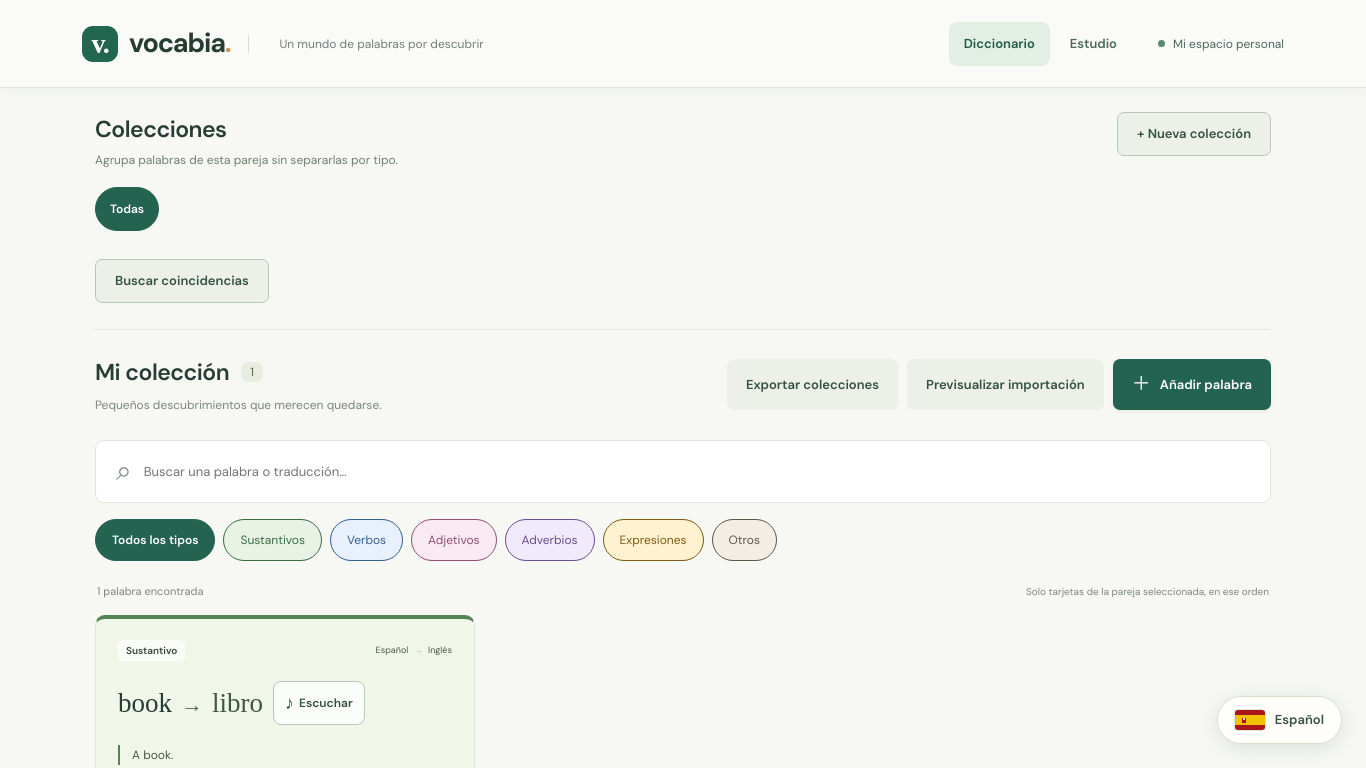
Test case: Colección de palabras › muestra un error de exportación sin ocultar la colección
(page scrolled)
Check: the heading "book" is shown, box [118,687,172,719]
Click the button "Exportar colecciones". click: {"x": 813, "y": 384}
box: [727,359,898,410]
(page scrolled)
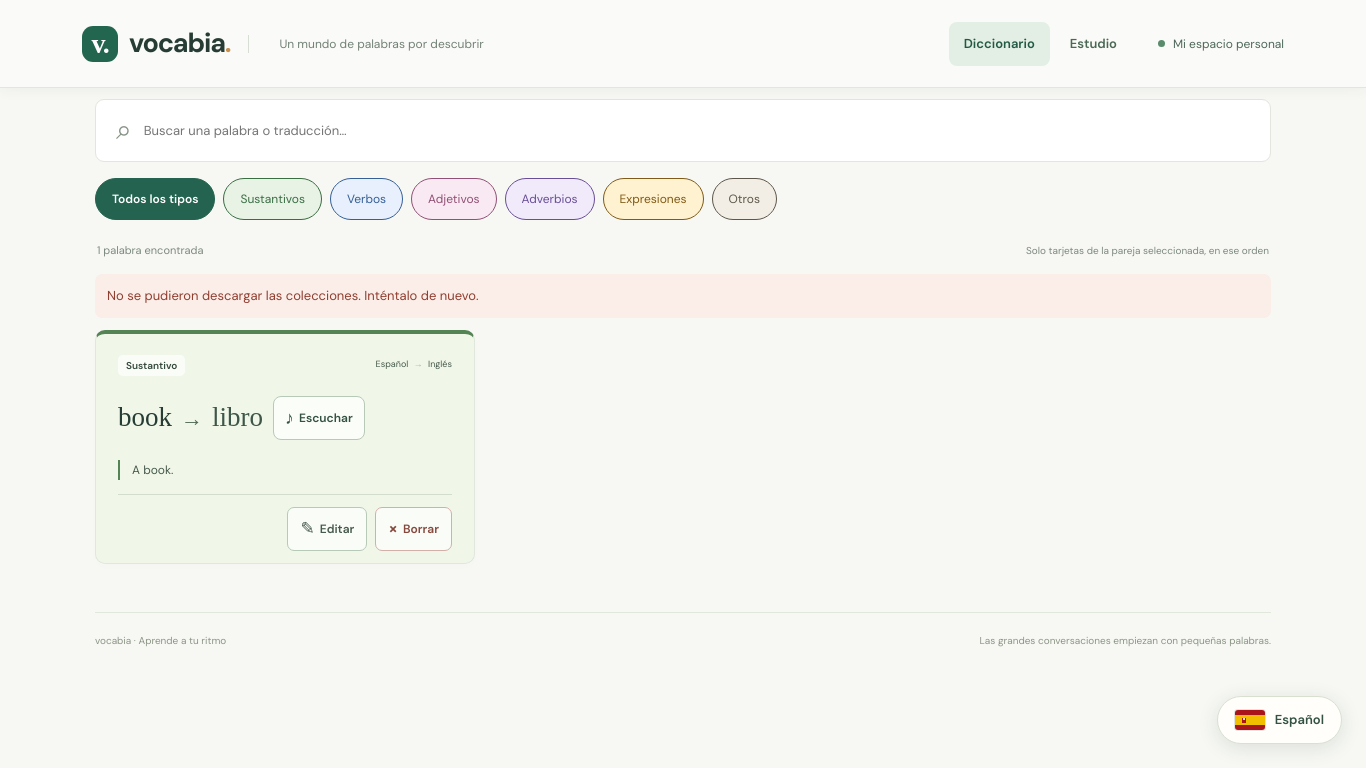
Check: the heading "book" is shown, box [118,401,172,434]
Check: the message shows "No se pudieron descargar las colecciones.", box [107,287,479,304]
